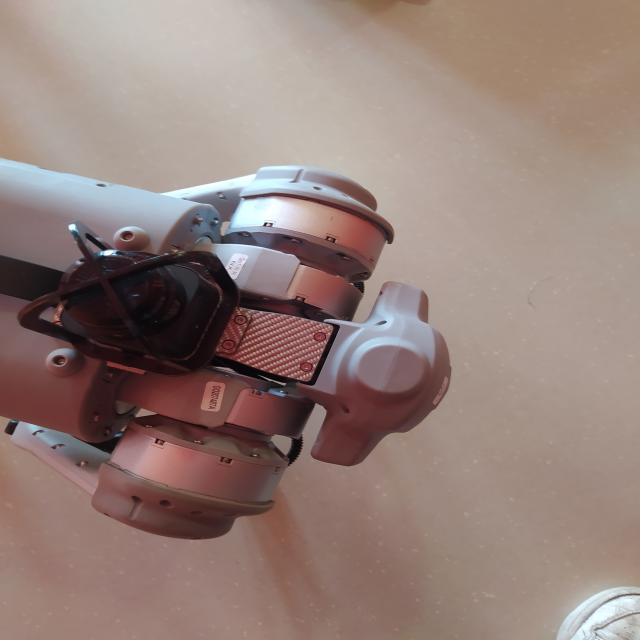unitree-go1-robot: (0, 162, 456, 542)
